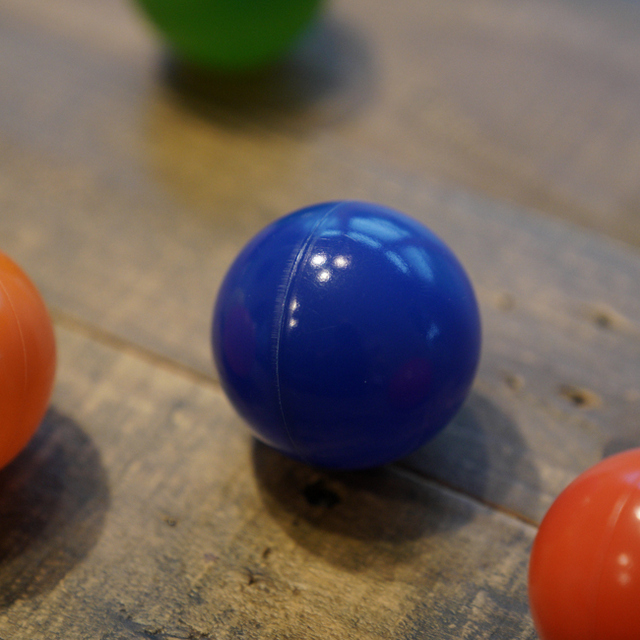Ball: (211, 200, 478, 469)
